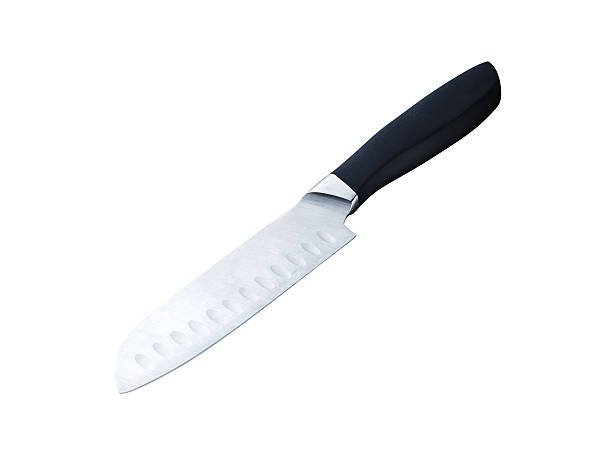knife: (112, 60, 504, 396)
